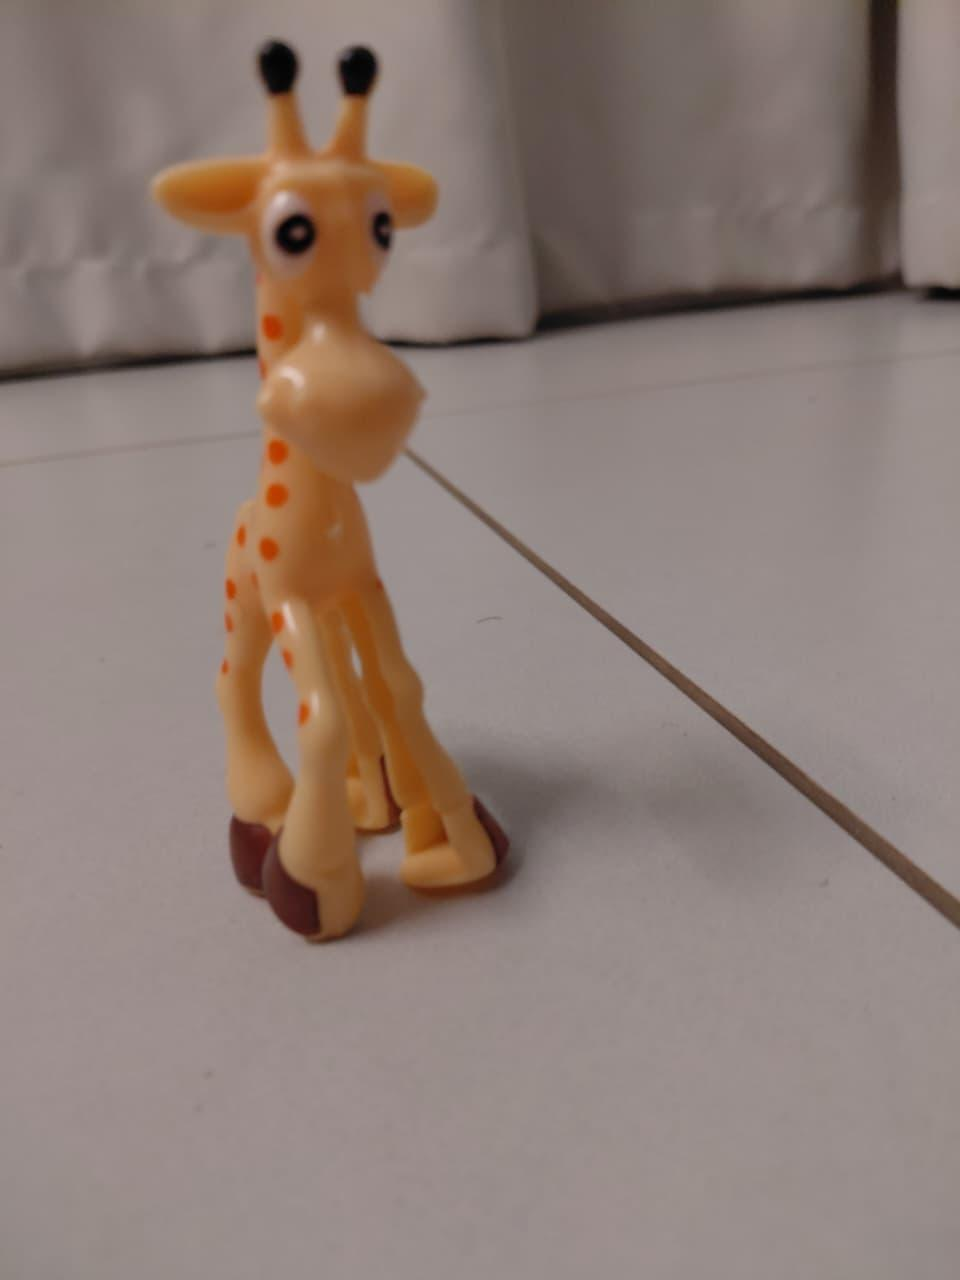giraffe: (130, 13, 668, 983)
